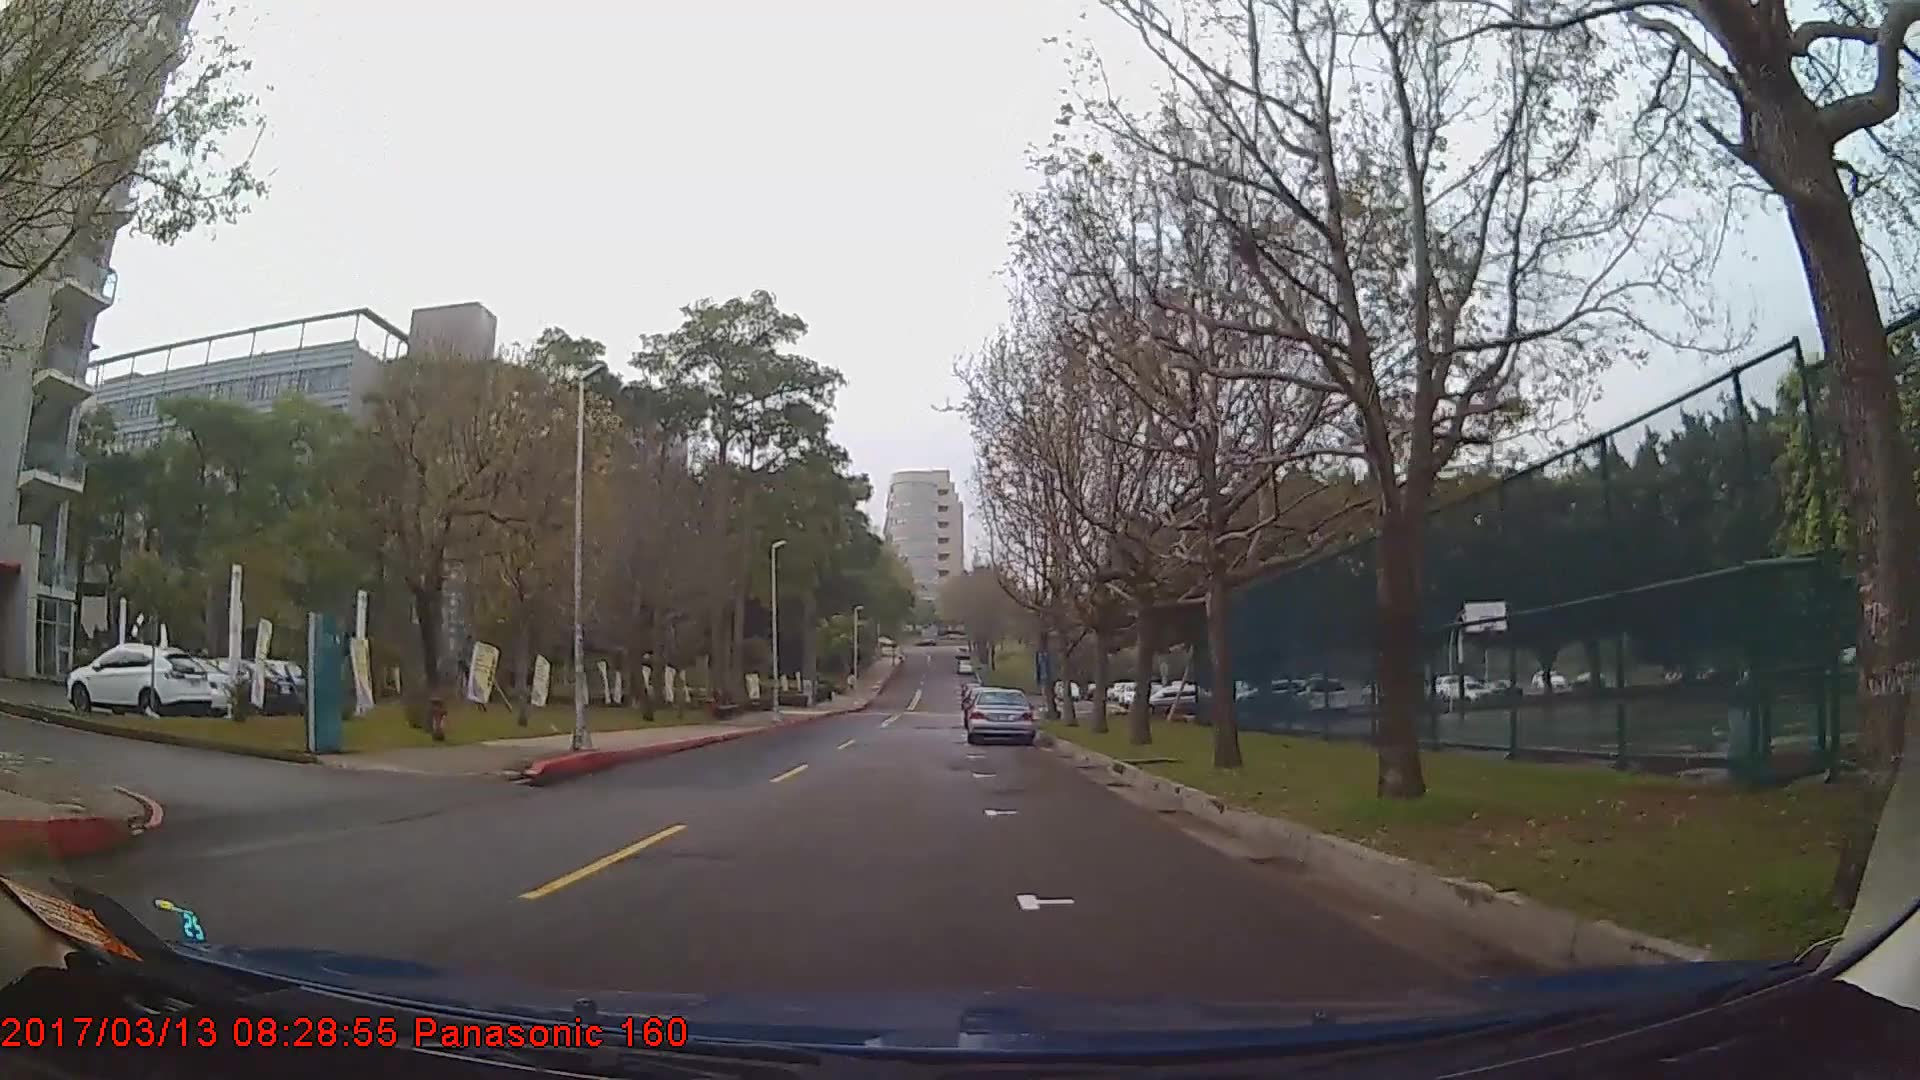vehicle: (65, 644, 212, 719), (117, 651, 241, 712), (967, 686, 1036, 745)
